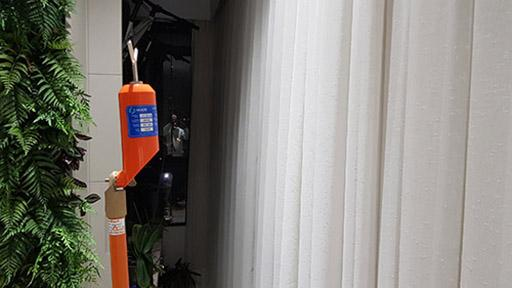Detector_Tensao_Contato: (114, 39, 160, 189)
